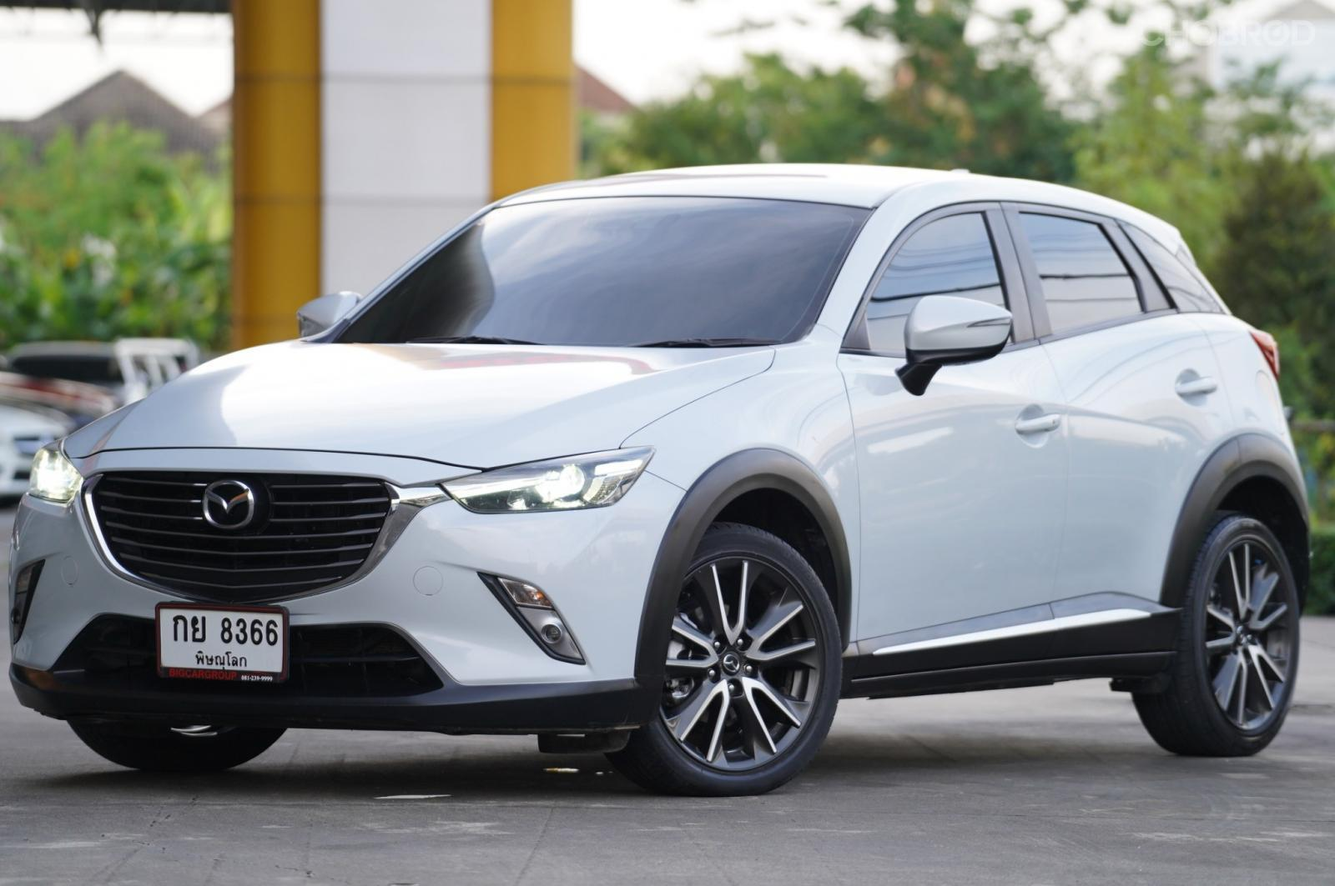license-plate: (155, 600, 290, 686)
